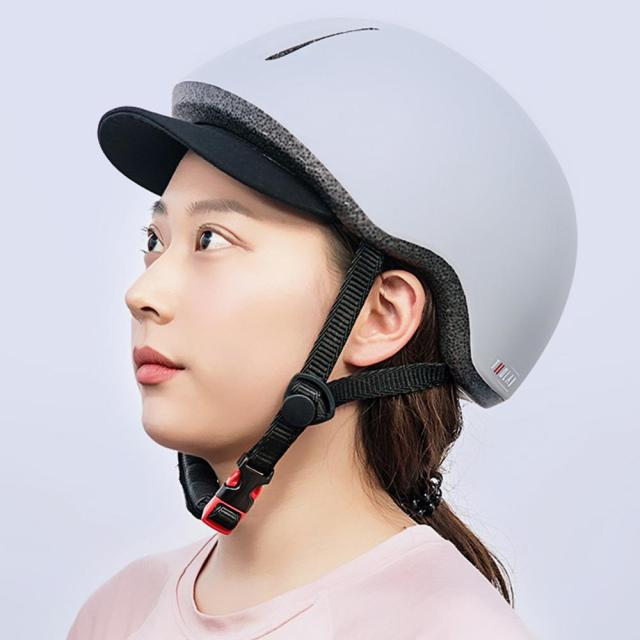Helmet: (96, 16, 577, 466)
